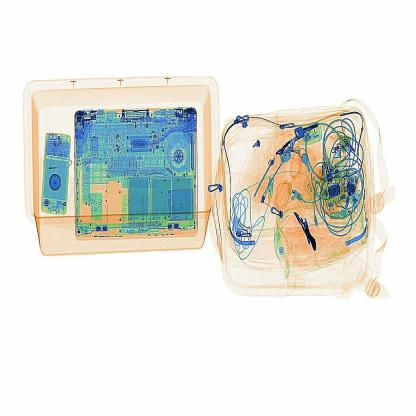wrench: (290, 206, 325, 262)
